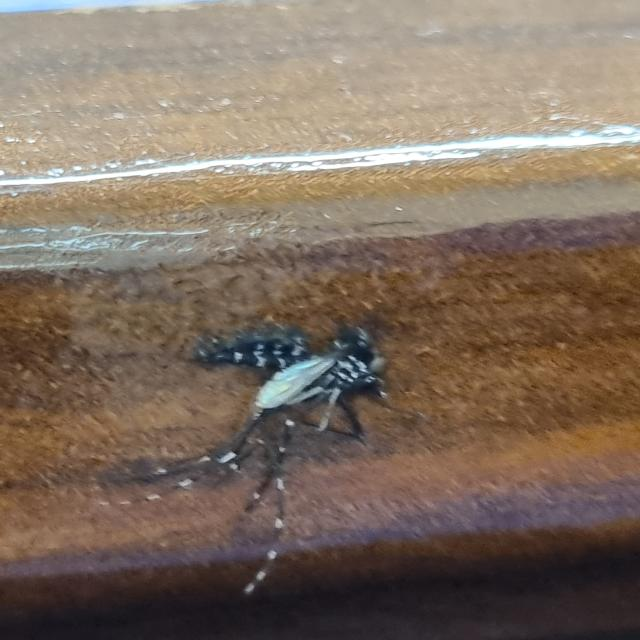albopictus: (174, 313, 392, 494)
